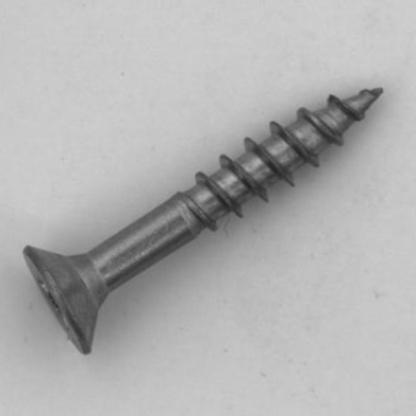metal: (21, 85, 383, 354)
